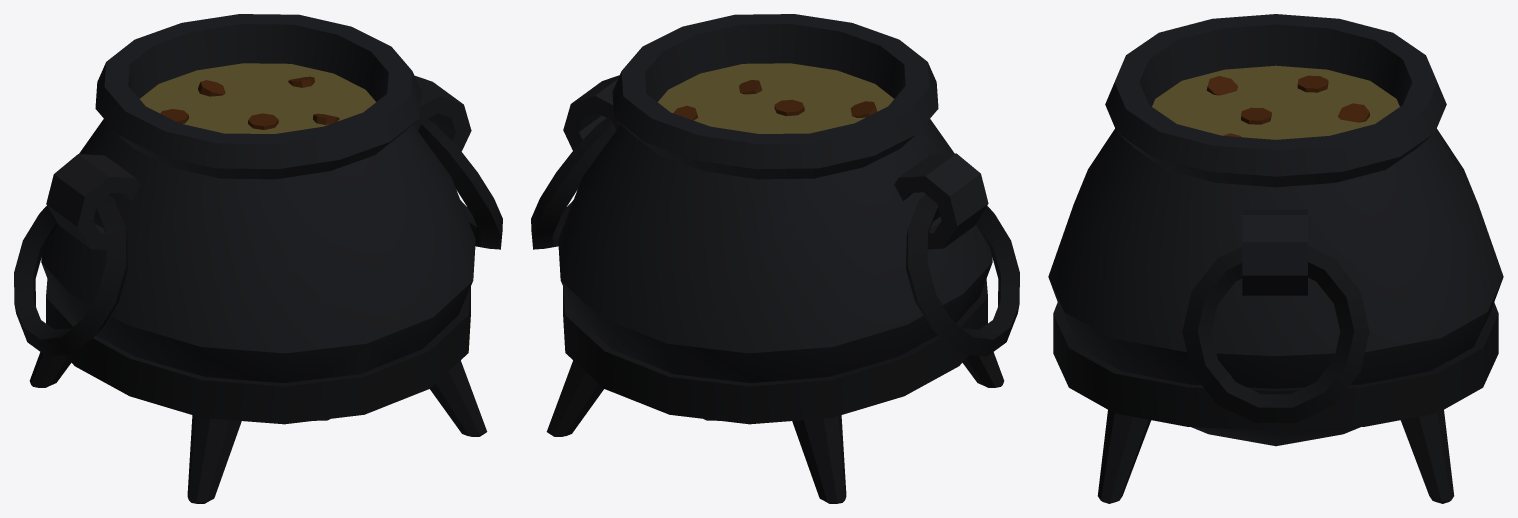
Rendered from Cauldron.obj.
The picture shows the model from 3 angles, left to right: view 1: azimuth 30°, elevation 25°; view 2: azimuth 150°, elevation 25°; view 3: azimuth 270°, elevation 25°; orthographic projection. The views are drawn at different scales.
Parts seen in each view (by area): view 1: Cauldron_Torus.008; view 2: Cauldron_Torus.008; view 3: Cauldron_Torus.008.
Part boxes in pixels (box(x1,y1,x2,y2)): Cauldron_Torus.008: box(14, 14, 502, 503); Cauldron_Torus.008: box(531, 14, 1019, 503); Cauldron_Torus.008: box(1048, 14, 1503, 503).
Size of the model in its own units: 0.3607 by 0.2518 by 0.2988.
